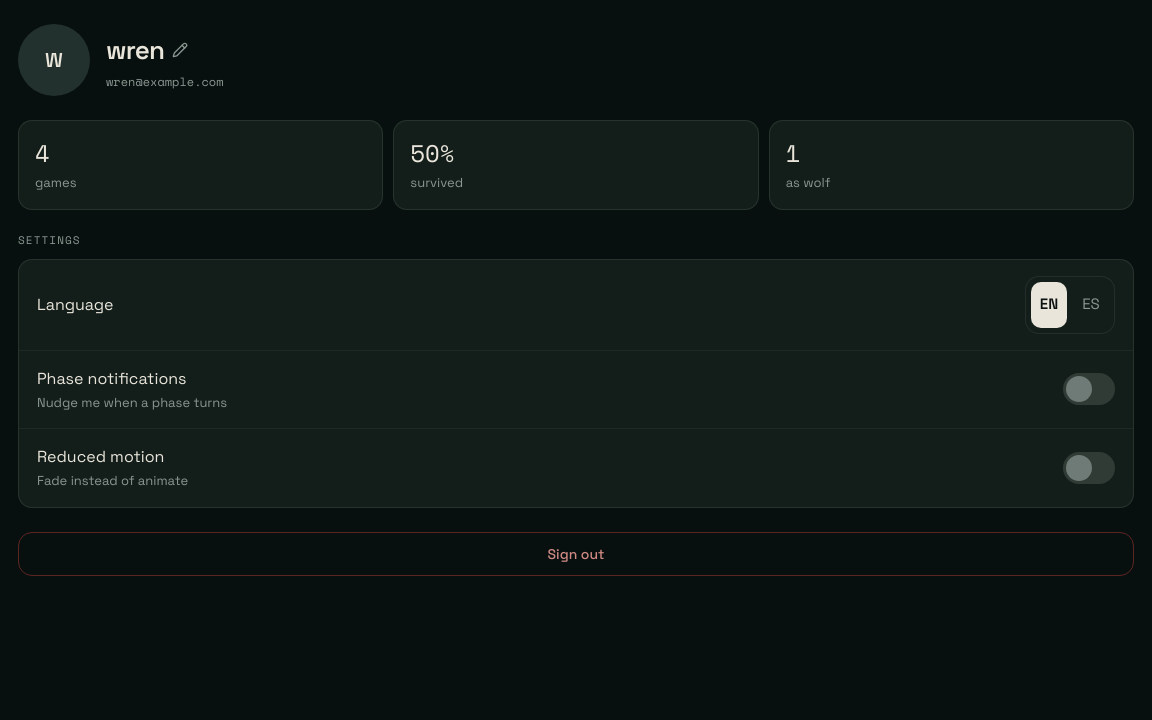
Test: profile: cancels the username edit
The width and height of the screenshot is (1152, 720).
Expected: the text "50%" is shown, [410,135,454,171]
Click the button named "Edit username" at (180, 50), box [172,42,188,58]
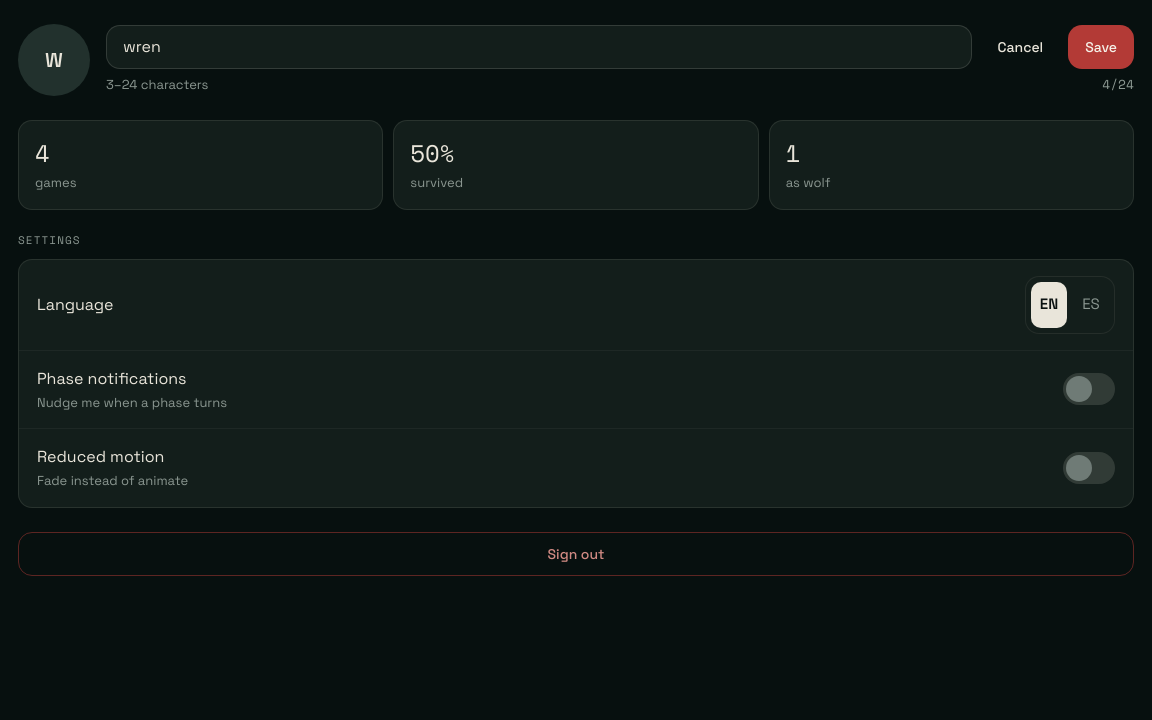
Replace the text in the field named "Username" with "fox" at (539, 47), box [106,25,972,69]
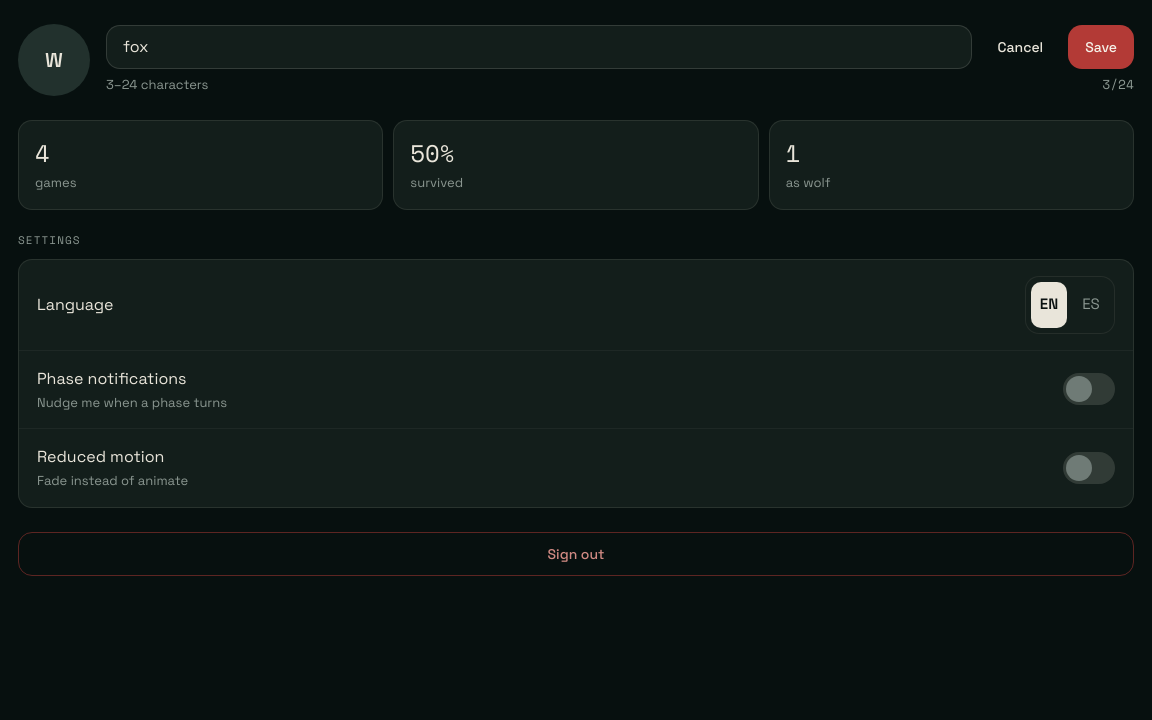
Click the button "Cancel" at (1020, 47), box [980,25,1060,69]
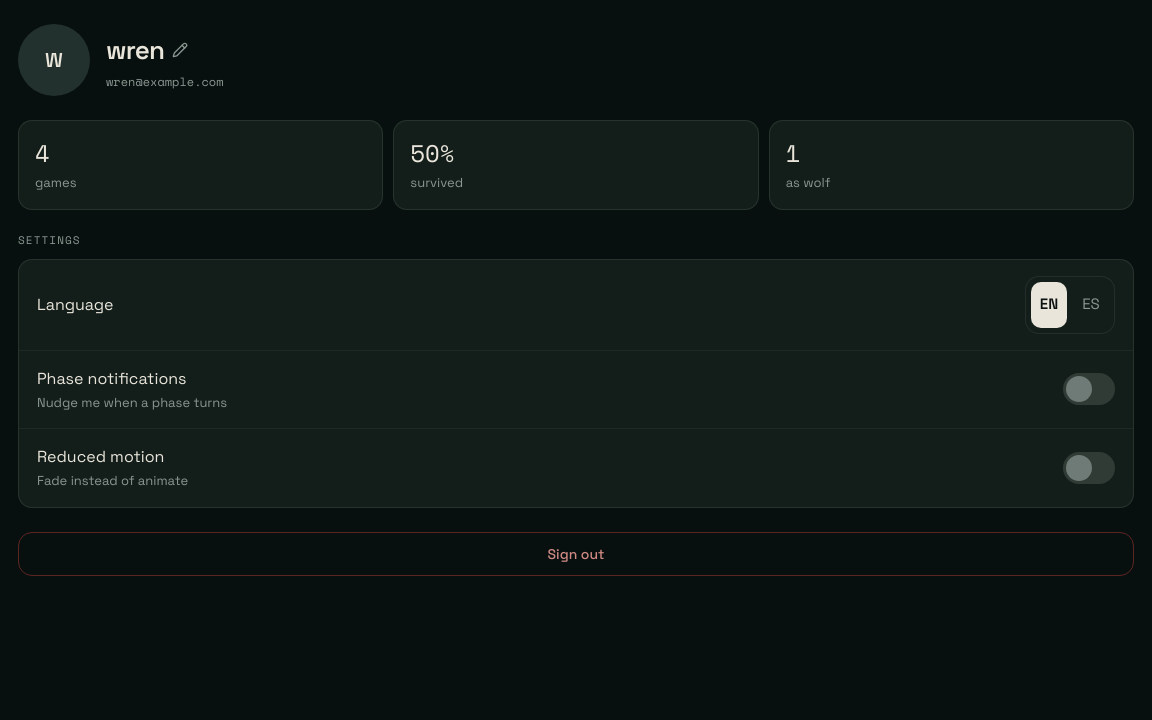
Expected: the text "wren@example.com" is shown, [106,72,224,90]
Expected: the heading "wren" is shown, [106,30,164,70]
